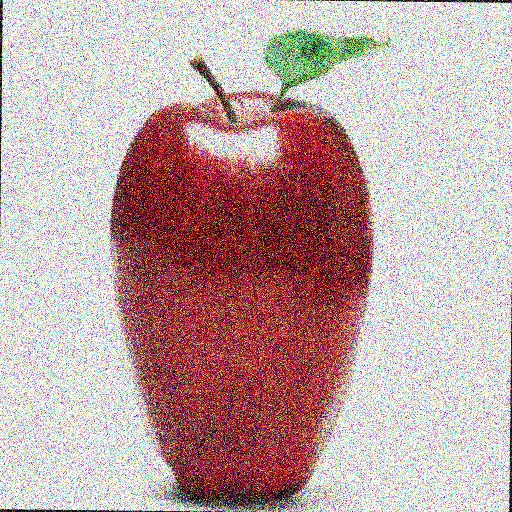fruit: (267, 137, 447, 512)
